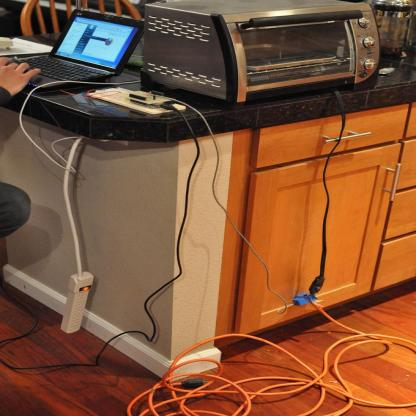board: (18, 5, 159, 94)
